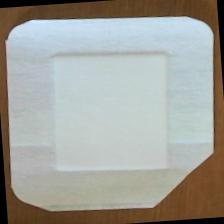Cut: (1, 1, 224, 220)
